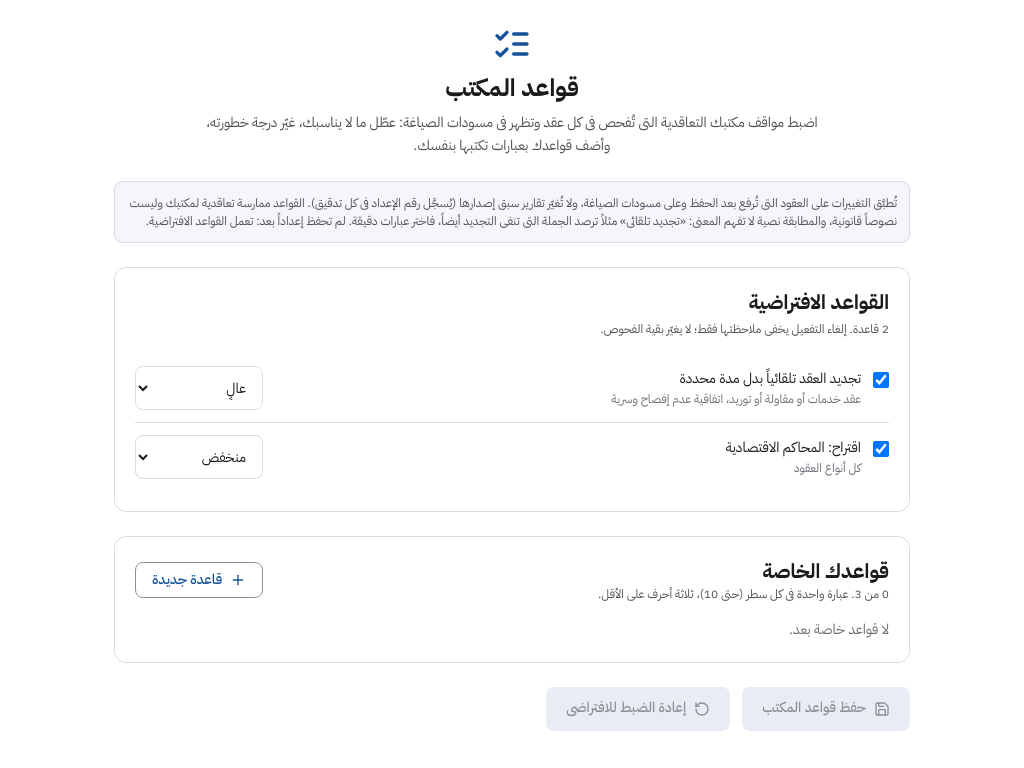
OfficePlaybookScreen › رفض الخادم (400) يعرض رسائله، ويبقى ما كتبه المستخدم
What coordinates should you click on to do the following:
click the checkbox named "تفعيل: تجديد العقد تلقائياً بدل مدة محددة"
I would click on:
 (881, 380)
Its box is [873,372,889,388].
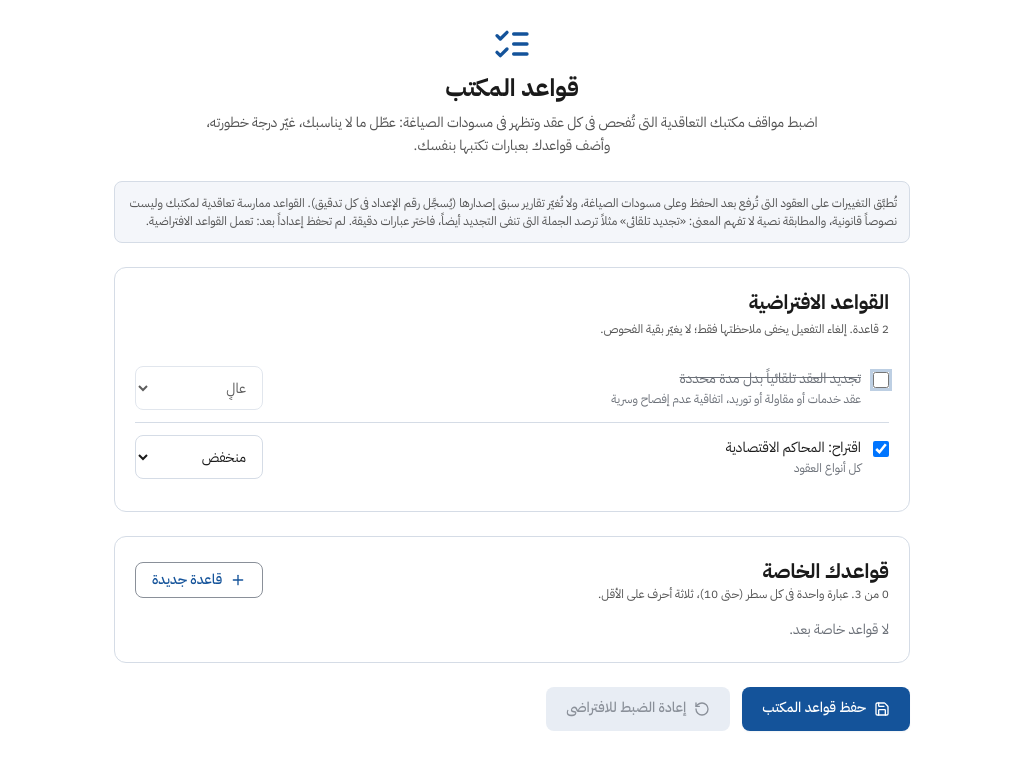
What coordinates should you click on to do the following:
click the button "حفظ قواعد المكتب"
I would click on:
 (826, 709)
Its box is [742,687,910,731].
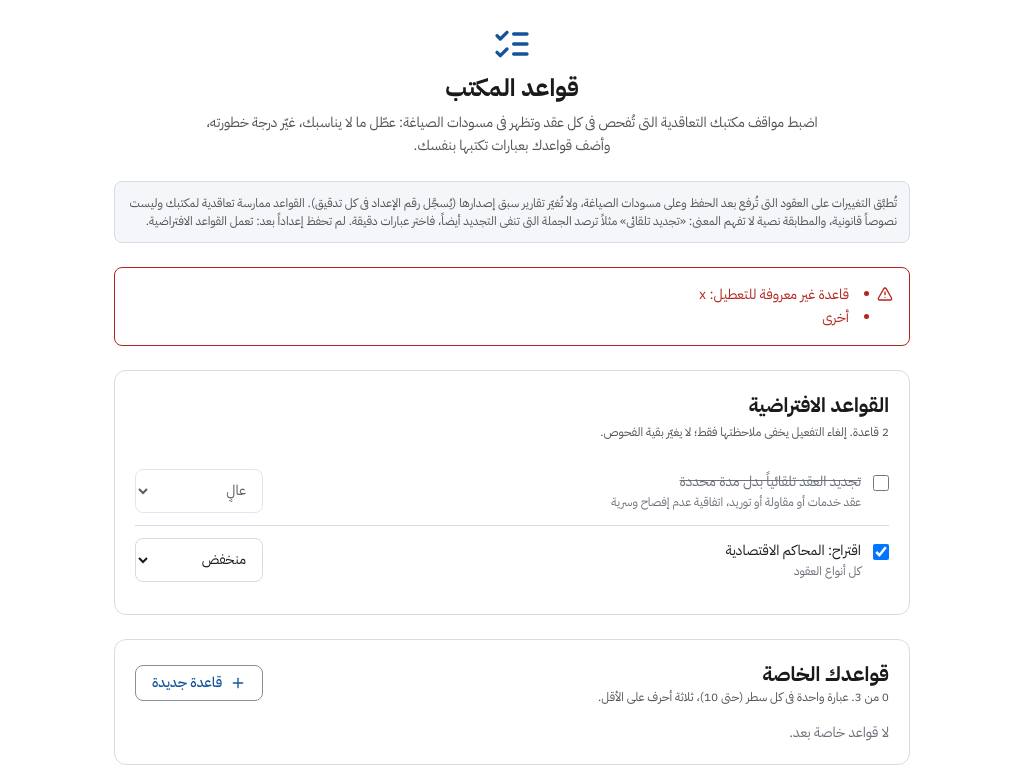
Expected: the checkbox named "تفعيل: تجديد العقد تلقائياً بدل مدة محددة" is not checked, [873,475,889,491]
Expected: the message shows "قاعدة غير معروفة للتعطيل: x", [699,284,849,305]
Expected: the message shows "أخرى", [822,307,849,328]
